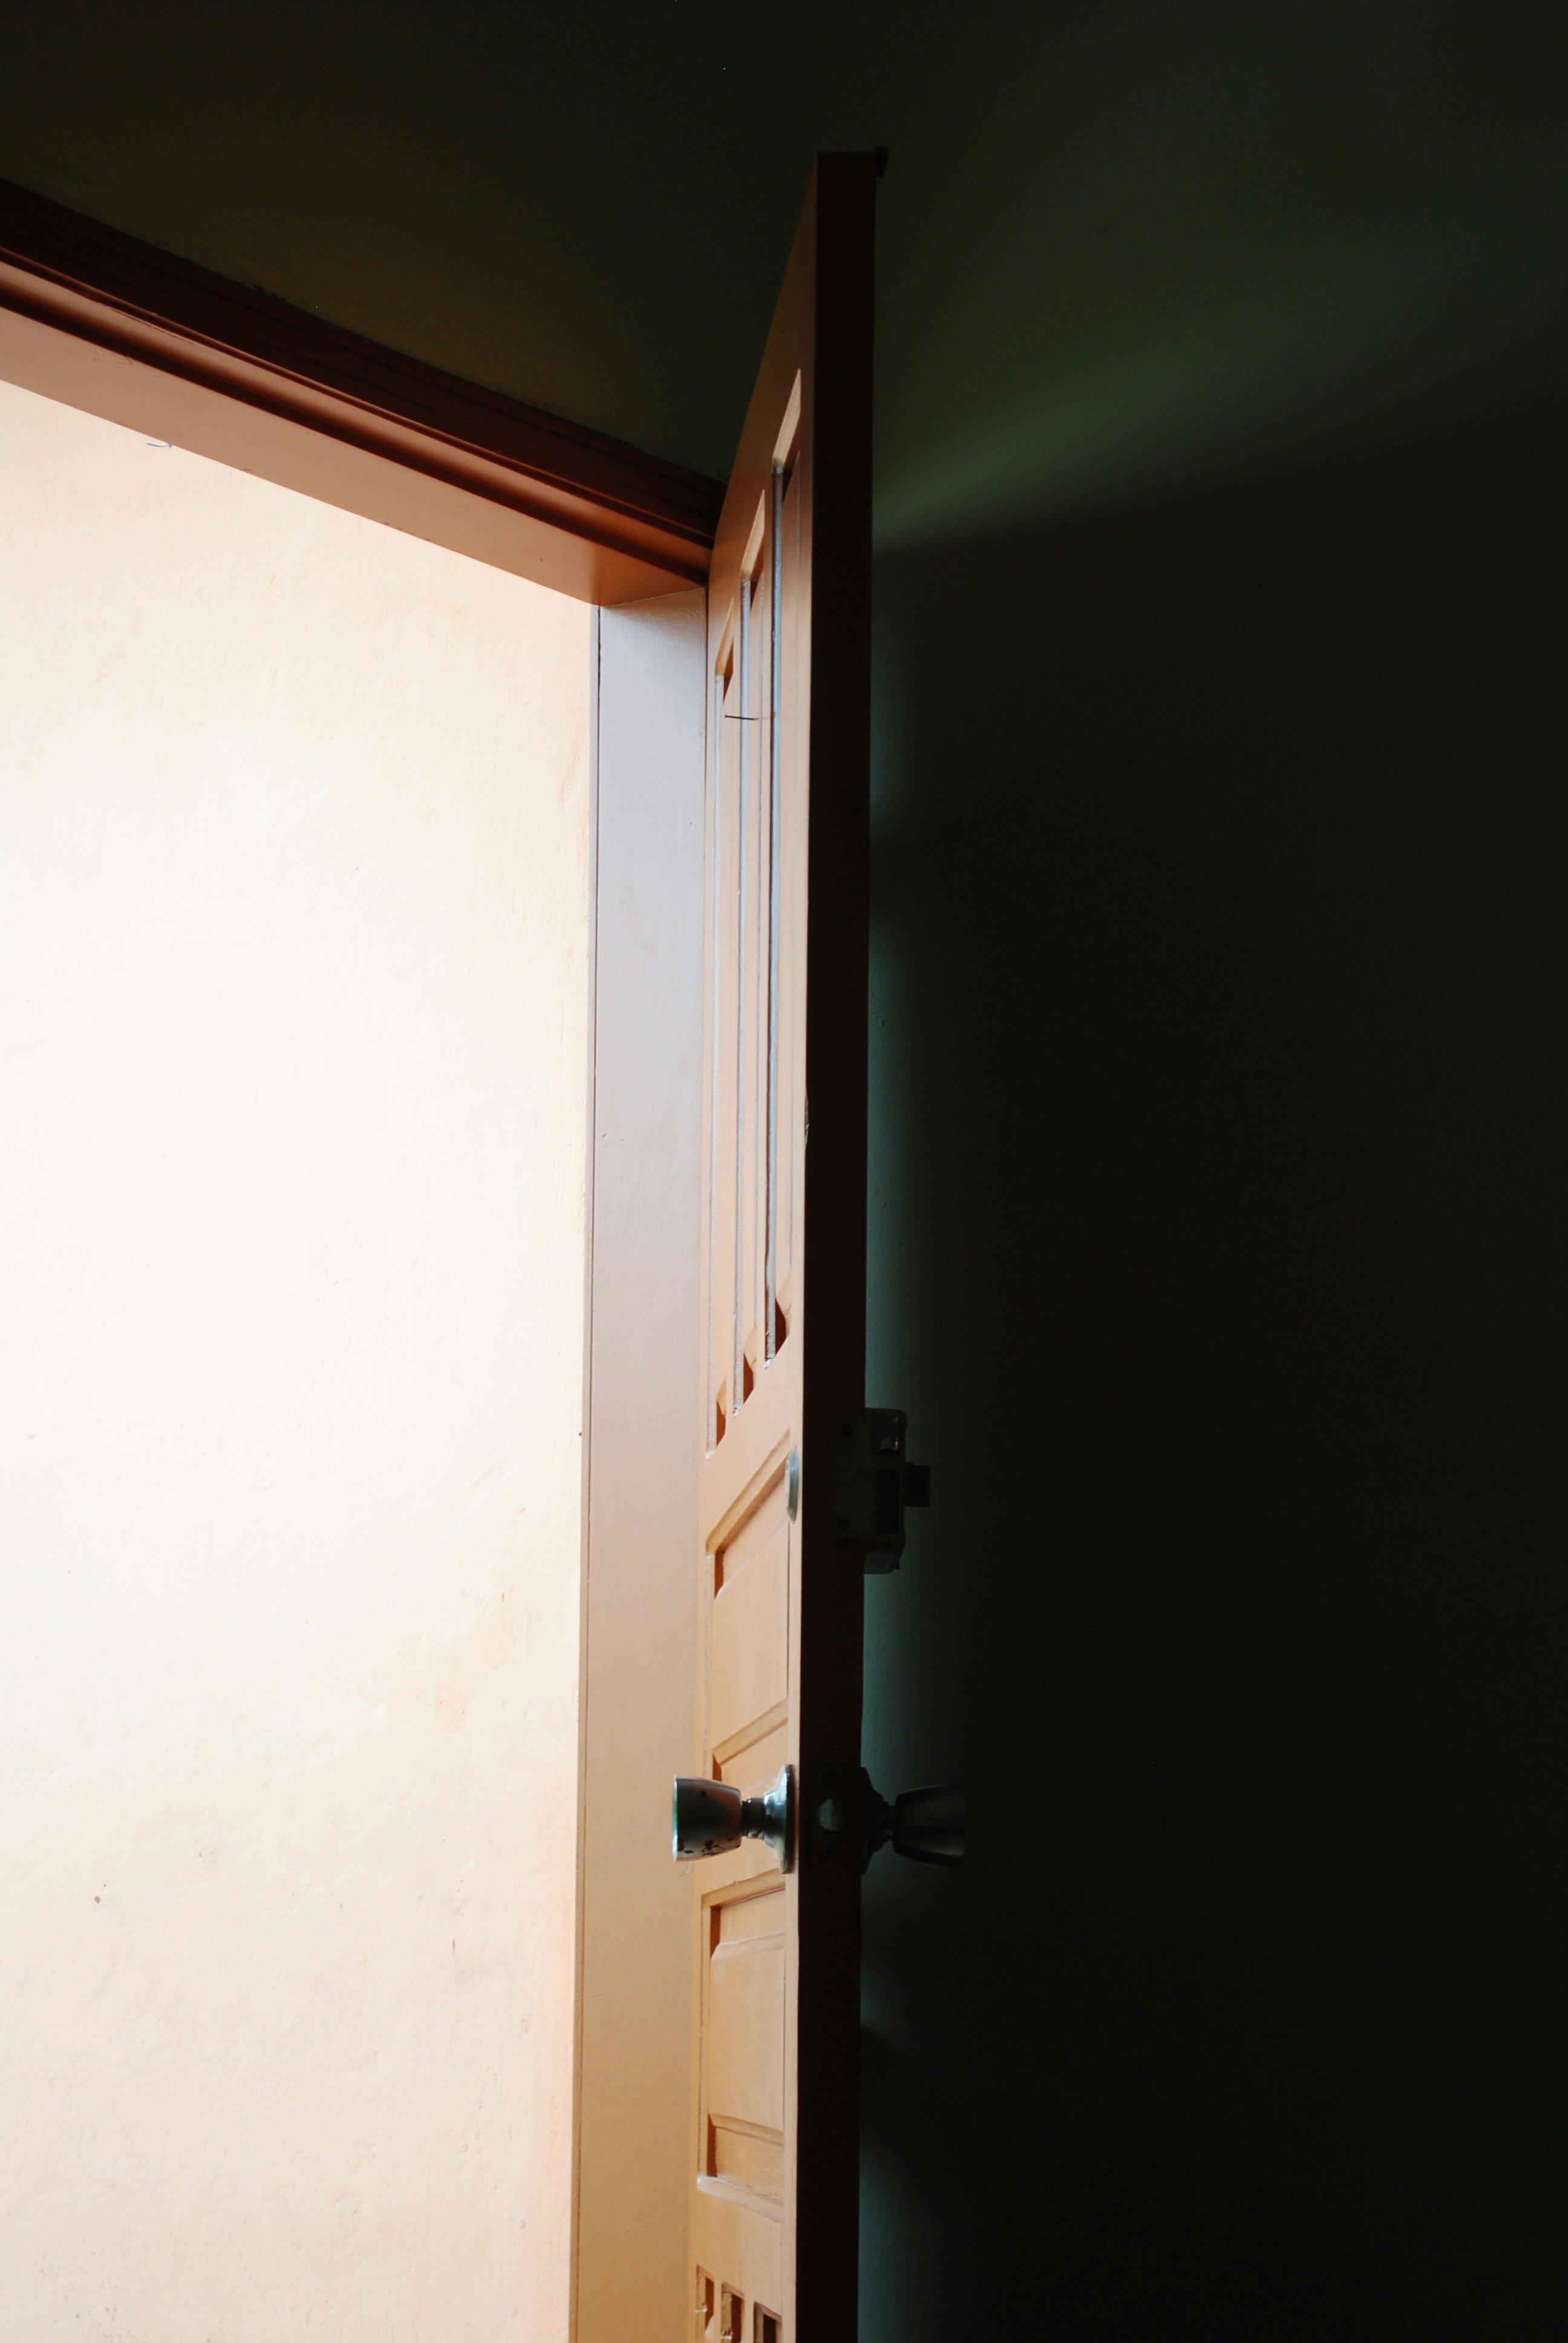door: (1, 122, 898, 2331)
